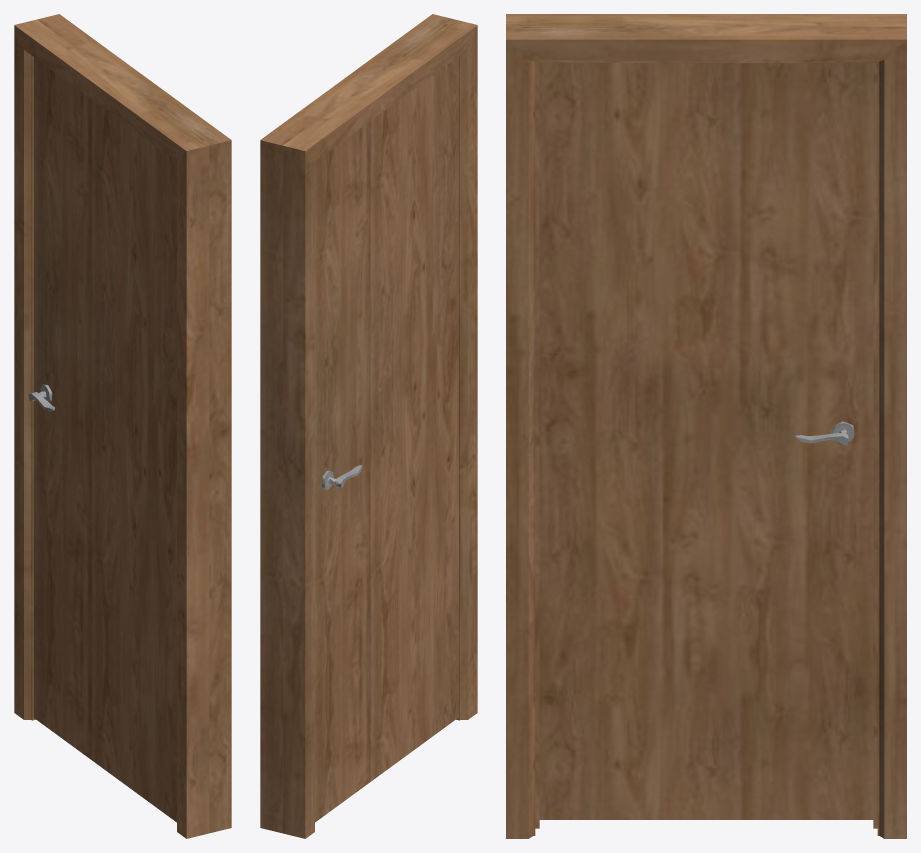
File: Door0018.obj
The picture shows the model from 3 angles, left to right: view 1: azimuth 30°, elevation 25°; view 2: azimuth 150°, elevation 25°; view 3: azimuth 270°, elevation 25°; orthographic projection. The views are drawn at different scales.
Size of the model in its own units: 0.182 by 2.12 by 0.964.
1 material, 1 textured.
